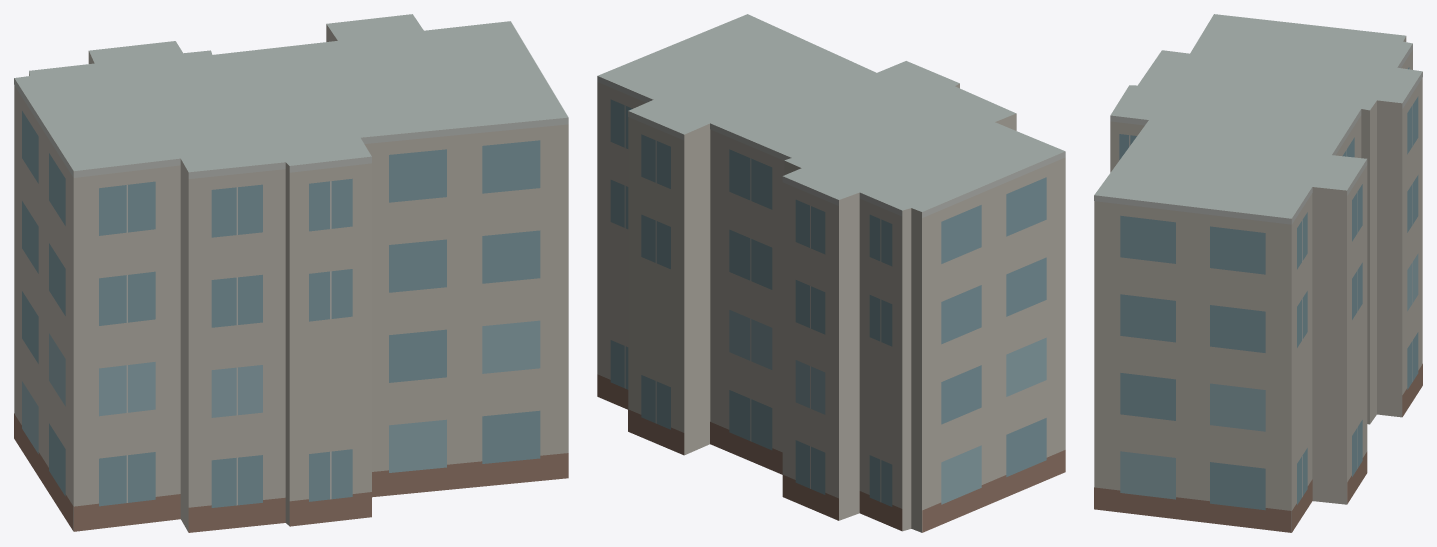
The model's file is survey-upis-32708873.glb.
The picture shows the model from 3 angles, left to right: view 1: azimuth 30°, elevation 25°; view 2: azimuth 150°, elevation 25°; view 3: azimuth 270°, elevation 25°; orthographic projection. The views are drawn at different scales.
Visible parts, largest first — view 1: survey-upis-32708873.tmp; view 2: survey-upis-32708873.tmp; view 3: survey-upis-32708873.tmp.
Boxes of the visible parts, box(x1,y1,x2,y2) form: survey-upis-32708873.tmp: box(14, 14, 568, 532); survey-upis-32708873.tmp: box(597, 14, 1065, 532); survey-upis-32708873.tmp: box(1094, 14, 1422, 532).
Bounding box in the file's own units: 18.11 × 12.95 × 12.29.
